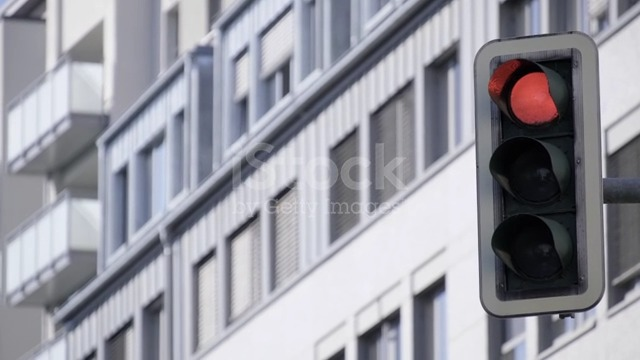red traffic light: (464, 30, 602, 320)
